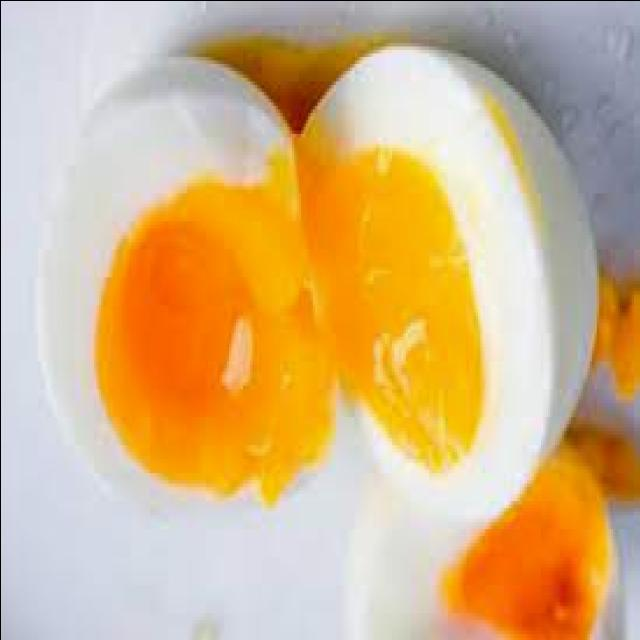telur rebus: (291, 38, 598, 521), (37, 49, 333, 511)
